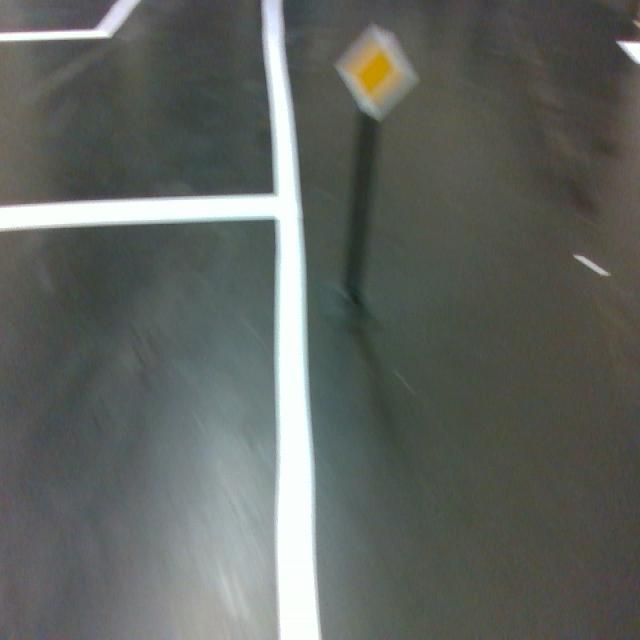priority-sign: (331, 21, 422, 124)
